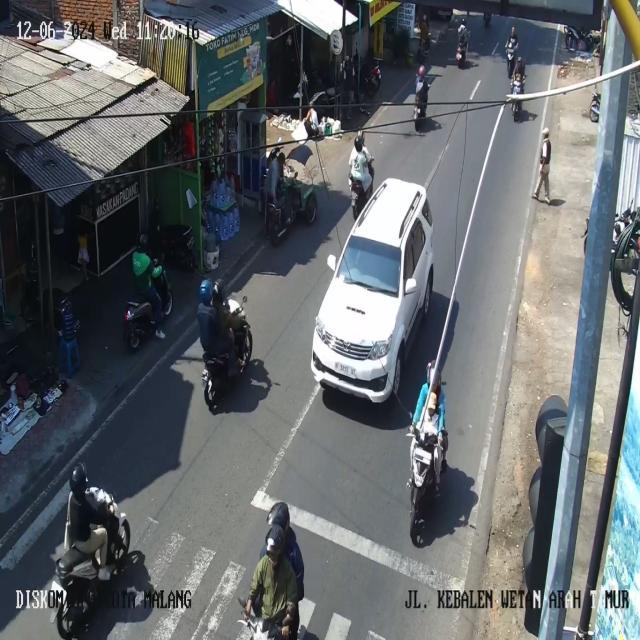Helmet: (267, 502, 289, 530), (69, 463, 87, 495), (266, 525, 284, 555), (199, 279, 213, 305), (213, 279, 224, 301), (354, 131, 363, 151), (138, 234, 148, 251), (354, 136, 363, 152), (417, 65, 425, 77), (277, 152, 285, 164), (517, 56, 522, 63), (461, 18, 465, 25)
Number Plate: (335, 362, 355, 377), (51, 580, 64, 592)
Rearview Mirror: (405, 278, 416, 294), (327, 254, 335, 271), (242, 295, 247, 303)
